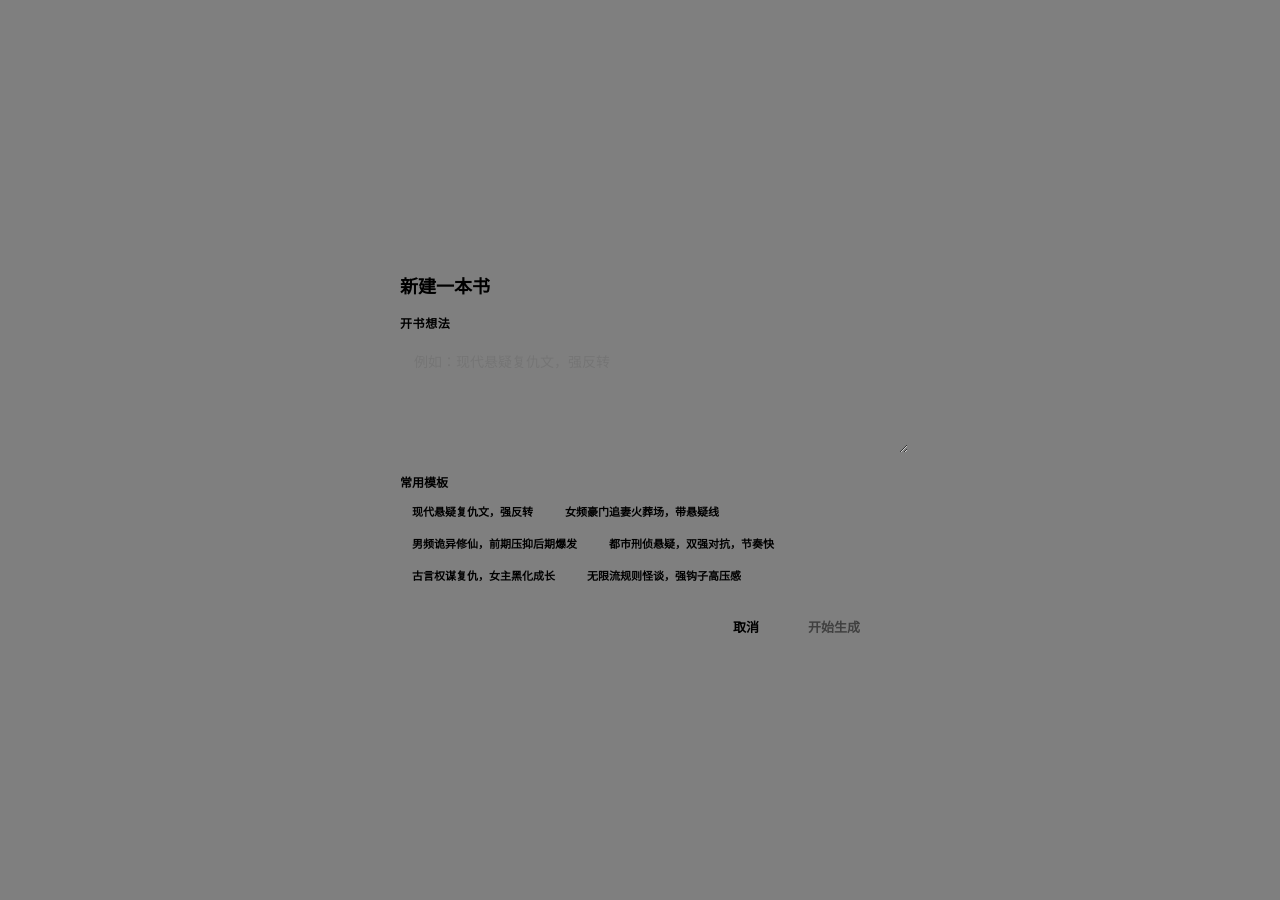
Test: BookCreationModal › running modal title is 正在创建新书… and does not reuse the idea as a title
The width and height of the screenshot is (1280, 900).
Type "现代悬疑复仇文，强反转" into the text box labelled "开书想法" at (654,396), box [400,340,908,453]
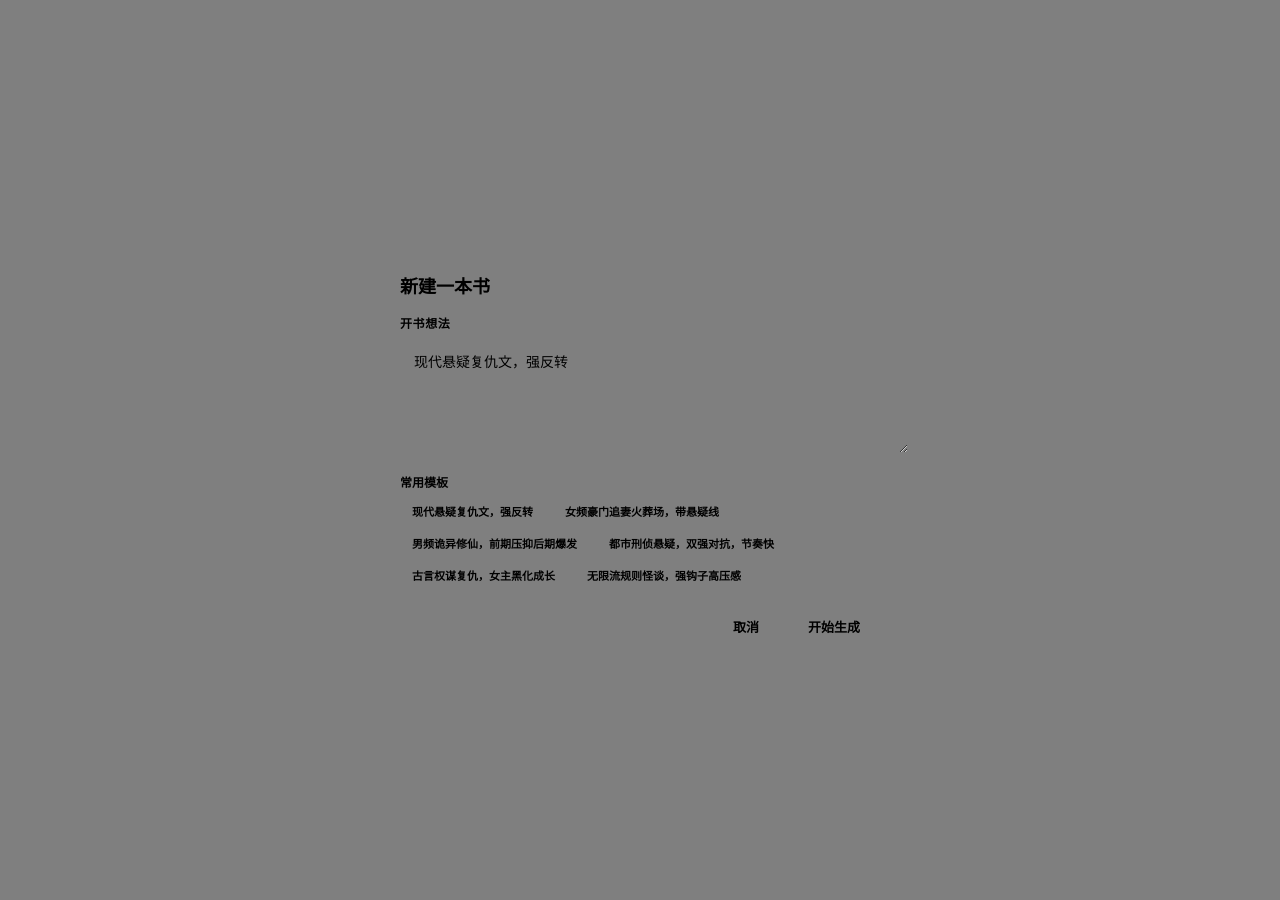
Click the button "开始生成" at (834,627), box [788,607,880,646]
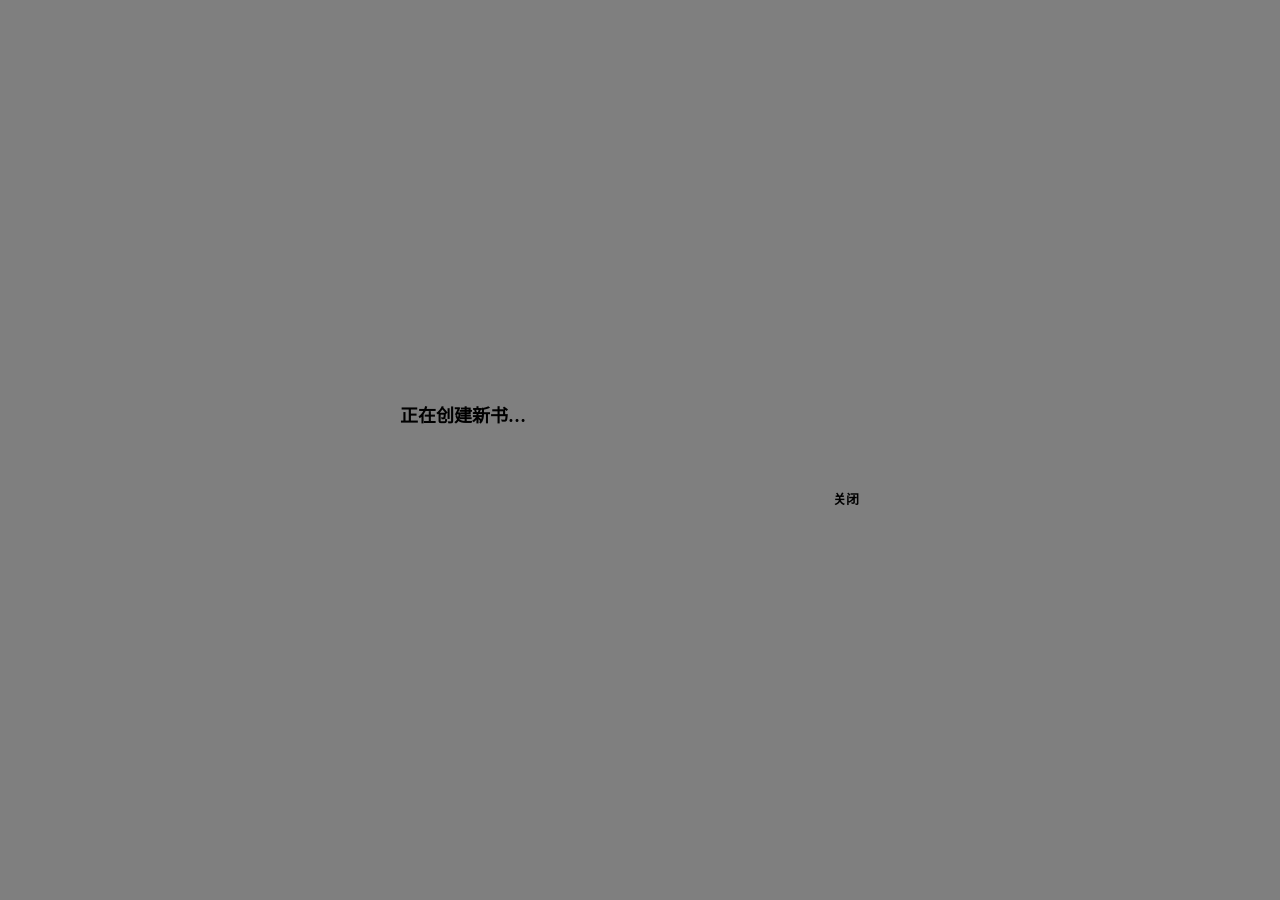
Result: the heading "正在创建新书…" is shown at [400,406,526,426]
